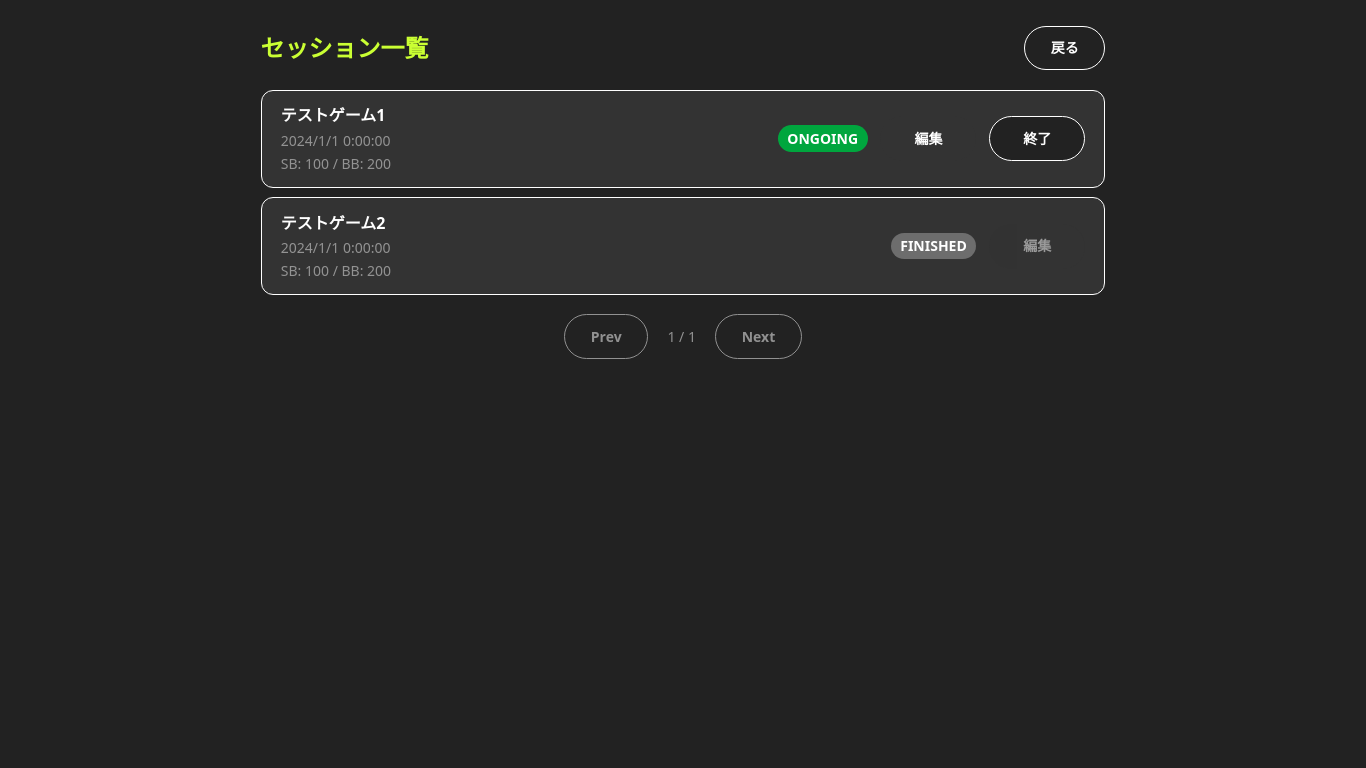
SessionList › ONGOING セッションの終了ボタンをクリックすると確認モーダルが表示される
The image size is (1366, 768).
expect the text "テストゲーム1" is shown: met, box top-left (281, 103), bottom-right (391, 127)
Click the button "終了" at (1037, 139), box top-left (989, 116), bottom-right (1085, 161)
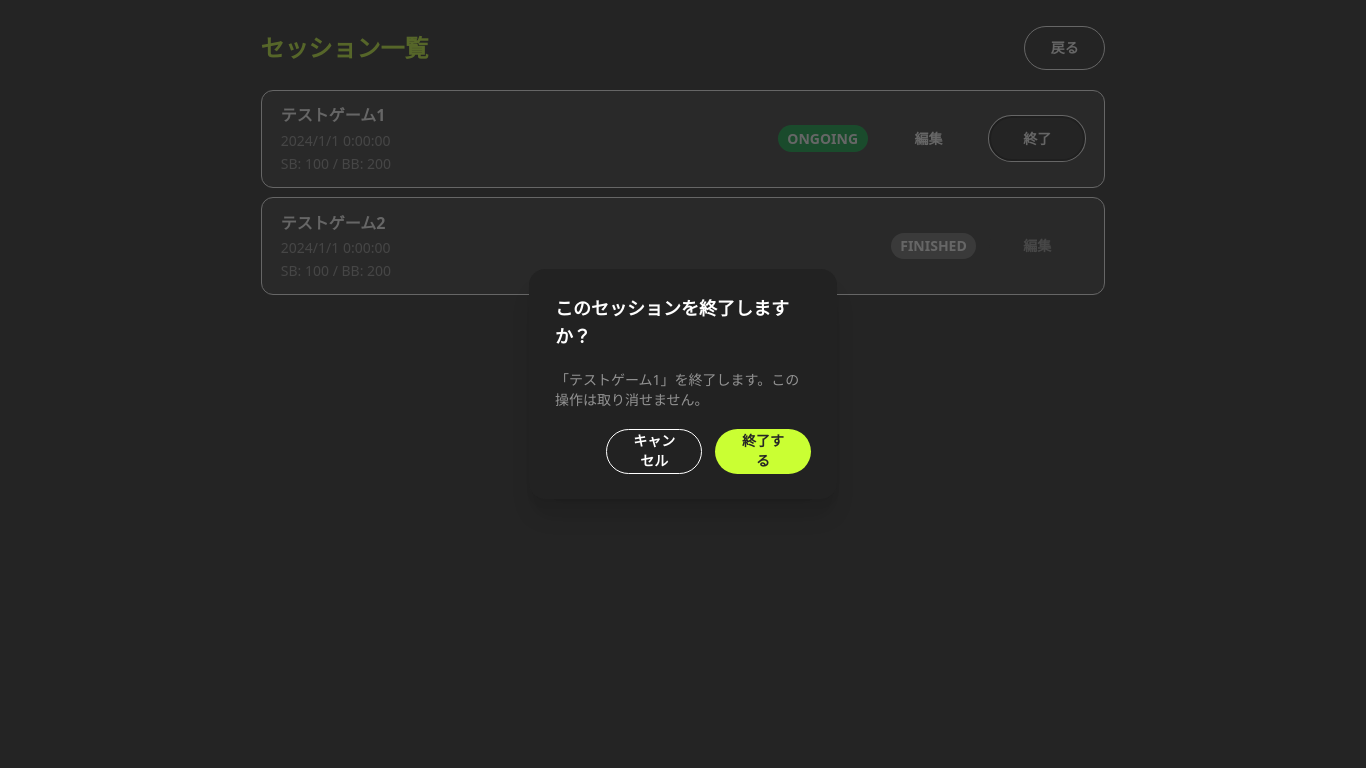
expect the heading "このセッションを終了しますか？" is shown: met, box top-left (555, 294), bottom-right (811, 350)
